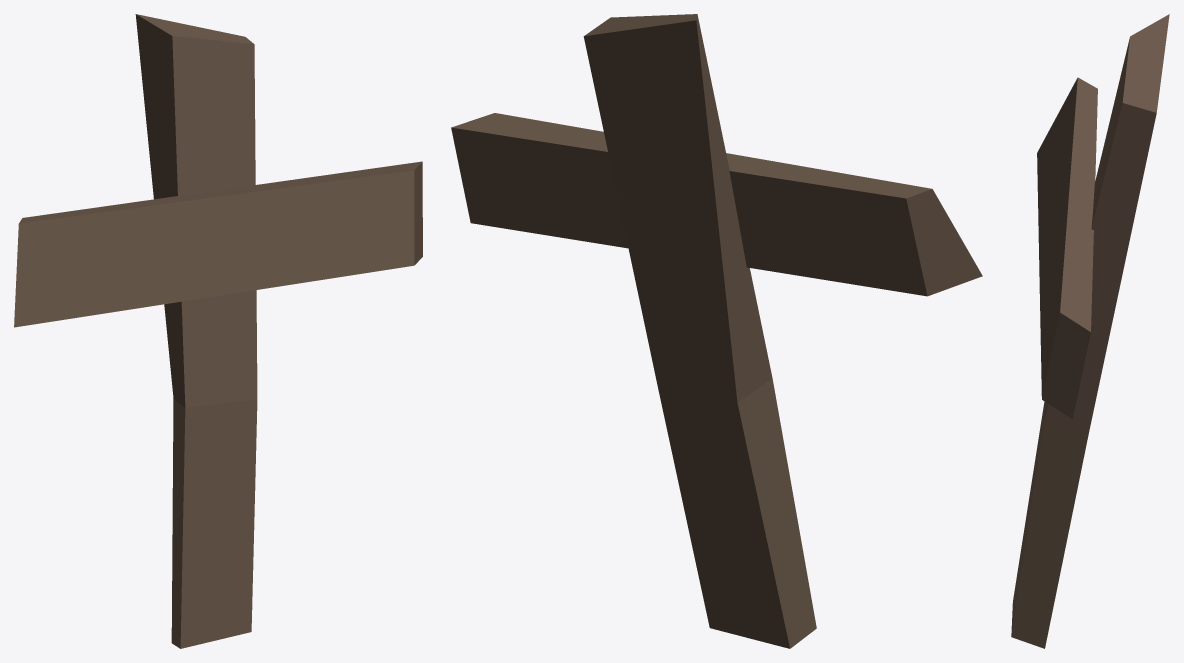
Rendered from Isl_1_Cross_1.fbx.
3 renders of one model, left to right at view 1: azimuth 30°, elevation 25°; view 2: azimuth 150°, elevation 25°; view 3: azimuth 270°, elevation 25°, orthographic. The views are drawn at different scales.
Parts seen in each view (by area): view 1: Isl_1_Cross_1; view 2: Isl_1_Cross_1; view 3: Isl_1_Cross_1.
Part boxes in pixels (x1,y1,x2,y2): Isl_1_Cross_1: (14,14,422,648); Isl_1_Cross_1: (451,14,982,648); Isl_1_Cross_1: (1011,14,1169,648).
Size of the model in its own units: 111 by 33.41 by 142.
1 material, 1 textured.
